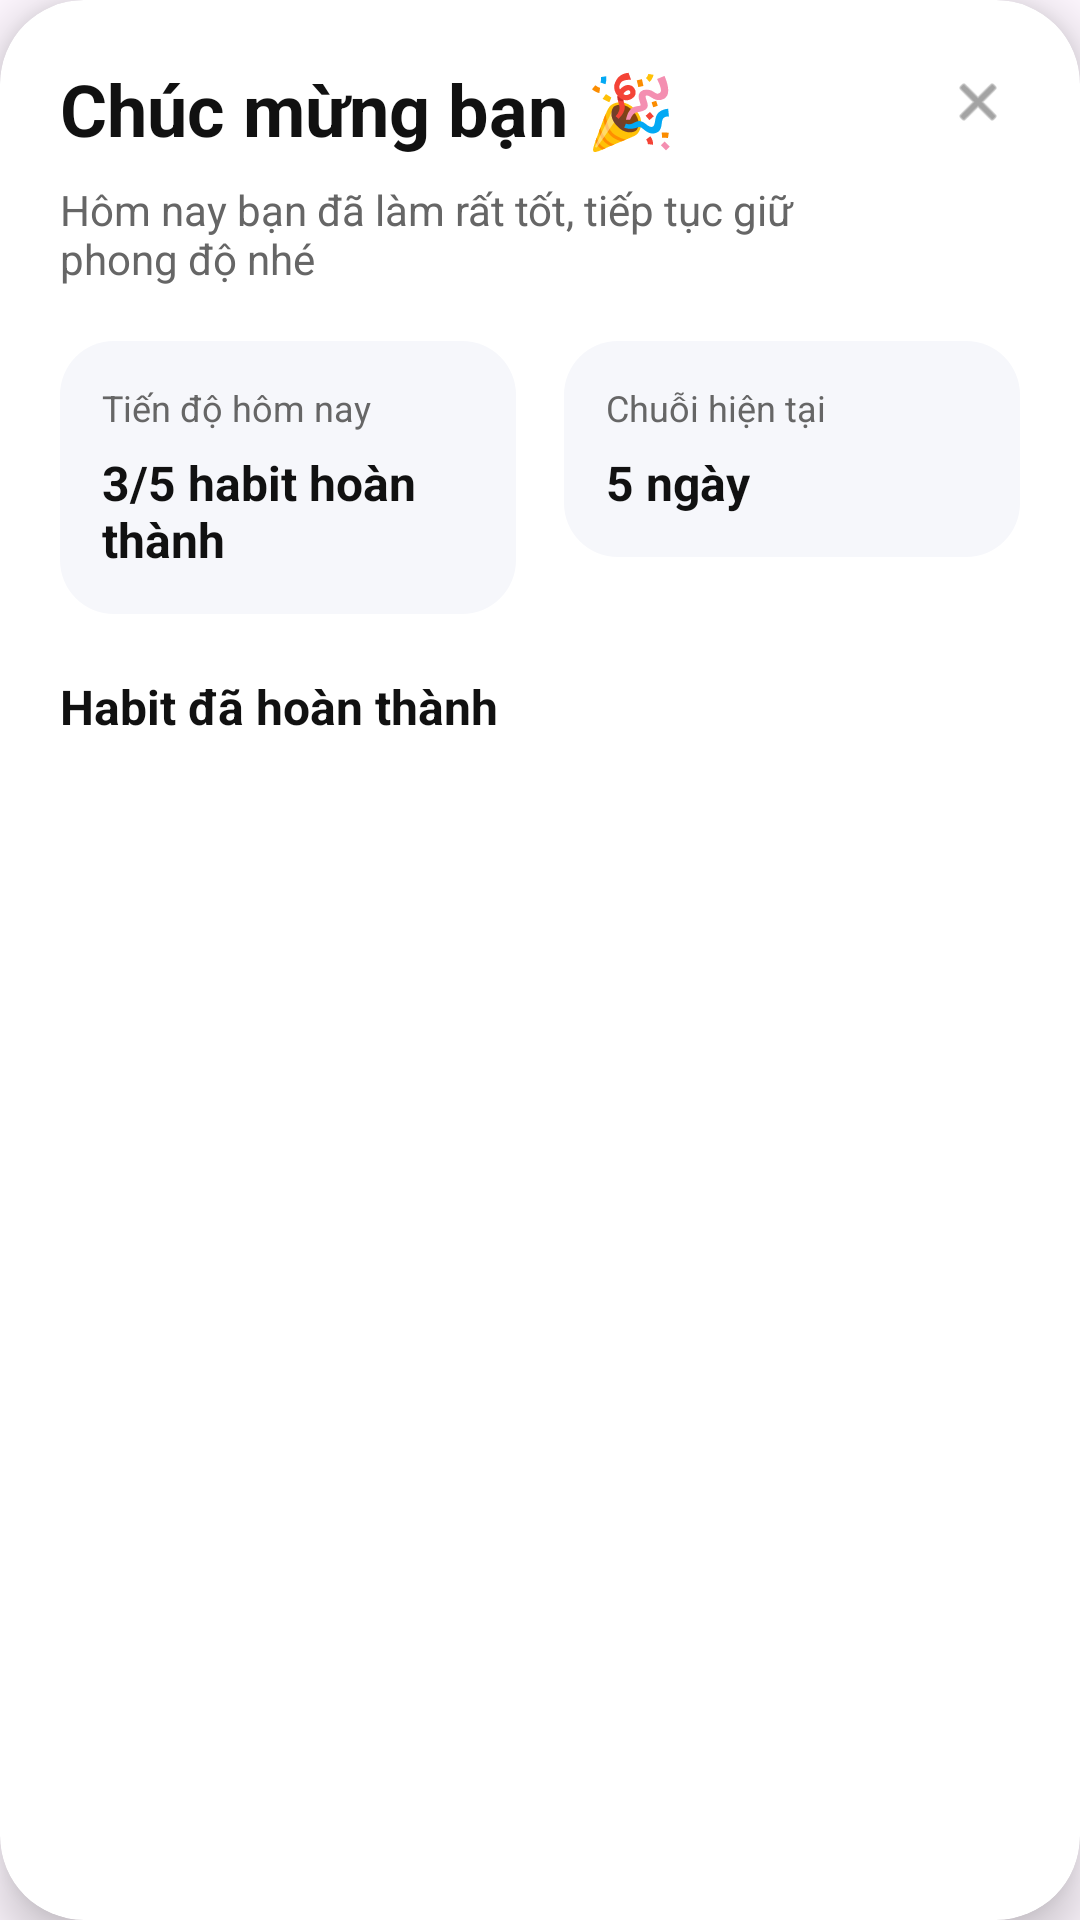

Where to tap for icons on this 1080 × 1920 app screen, as [x,y]:
Đóng: [978,102]
